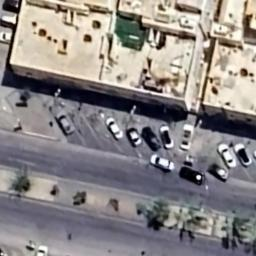sedan: (140, 120, 162, 154), (176, 163, 208, 186), (102, 114, 126, 142), (146, 152, 176, 174), (53, 112, 78, 138), (232, 138, 252, 168), (206, 162, 232, 184), (216, 142, 236, 170), (180, 122, 194, 153), (127, 124, 143, 150), (159, 126, 176, 150), (0, 14, 21, 30), (1, 0, 22, 12), (0, 30, 15, 46), (34, 244, 50, 256)
